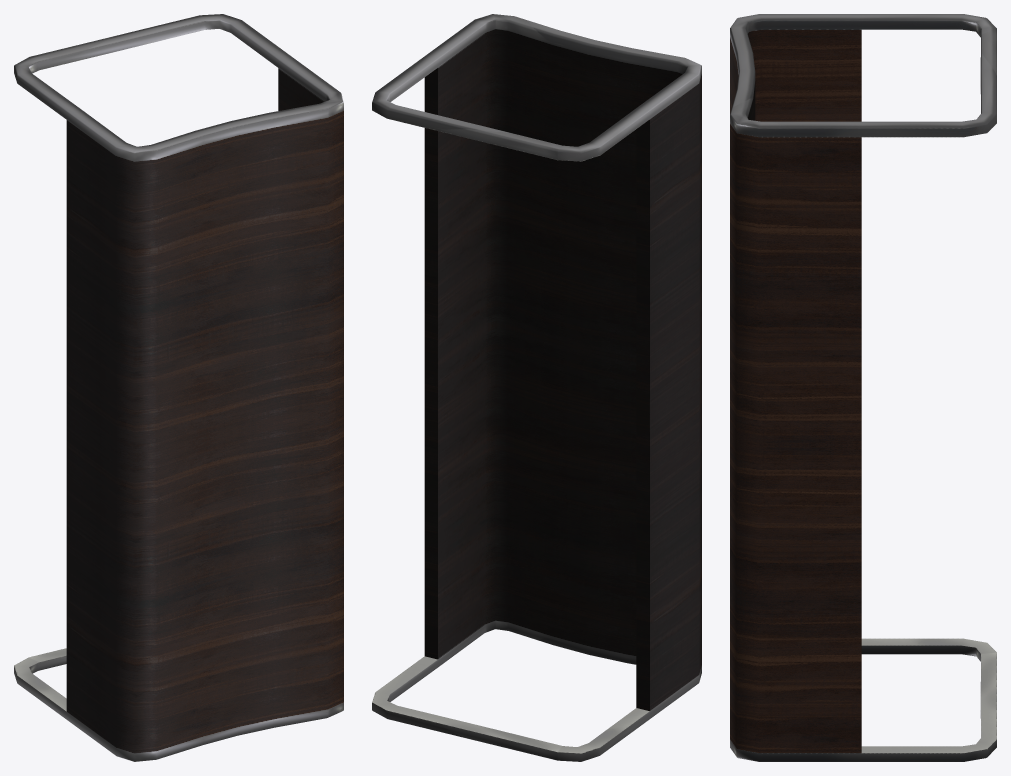
The model's file is AirportBench.obj.
3 renders of one model, left to right at view 1: azimuth 30°, elevation 25°; view 2: azimuth 150°, elevation 25°; view 3: azimuth 270°, elevation 25°, orthographic. The views are drawn at different scales.
Visible parts, largest first — view 1: AirportBench; view 2: AirportBench; view 3: AirportBench.
Part boxes in pixels (left/top/right/bottom): AirportBench: left=14, top=14, right=343, bottom=761; AirportBench: left=372, top=14, right=701, bottom=761; AirportBench: left=730, top=14, right=996, bottom=761.
Size of the model in its own units: 0.4228 by 1.09 by 0.4168.
1 material, 1 textured.
